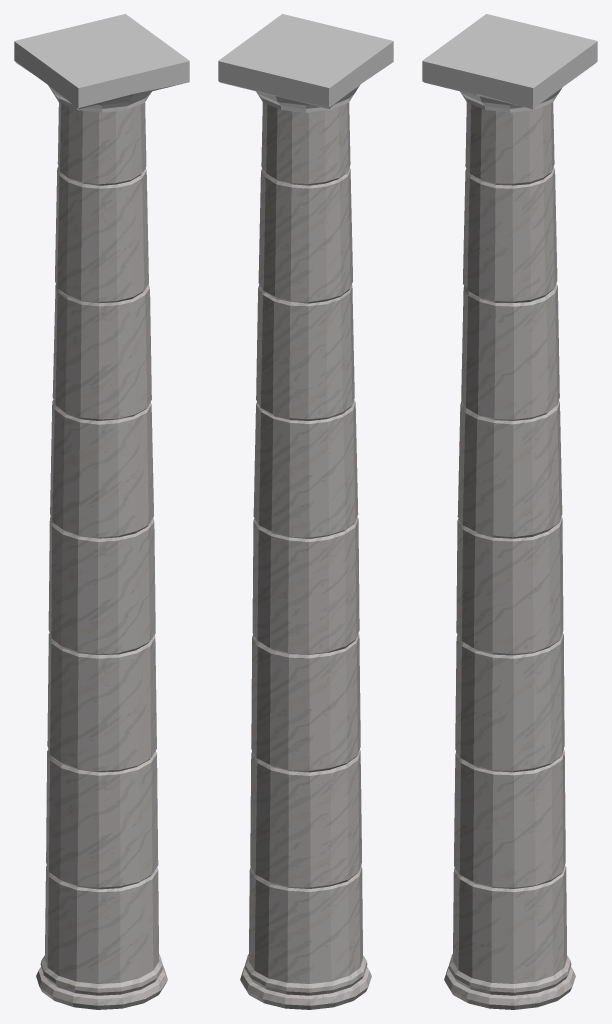
File: SM_Bld_Pillar_Monument_02.fbx
3 views of the same model, side by side, from view 1: azimuth 30°, elevation 25°; view 2: azimuth 150°, elevation 25°; view 3: azimuth 330°, elevation 25° (orthographic).
Visible parts, largest first — view 1: SM_Bld_Pillar_Monument_02; view 2: SM_Bld_Pillar_Monument_02; view 3: SM_Bld_Pillar_Monument_02.
Boxes of the visible parts, x1,y1,x2,y2 form: SM_Bld_Pillar_Monument_02: (14, 14, 189, 1009); SM_Bld_Pillar_Monument_02: (218, 14, 393, 1009); SM_Bld_Pillar_Monument_02: (422, 14, 597, 1009).
Size of the model in its own units: 151 by 1200 by 151.
